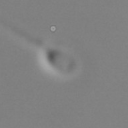normal: (1, 13, 44, 51)
